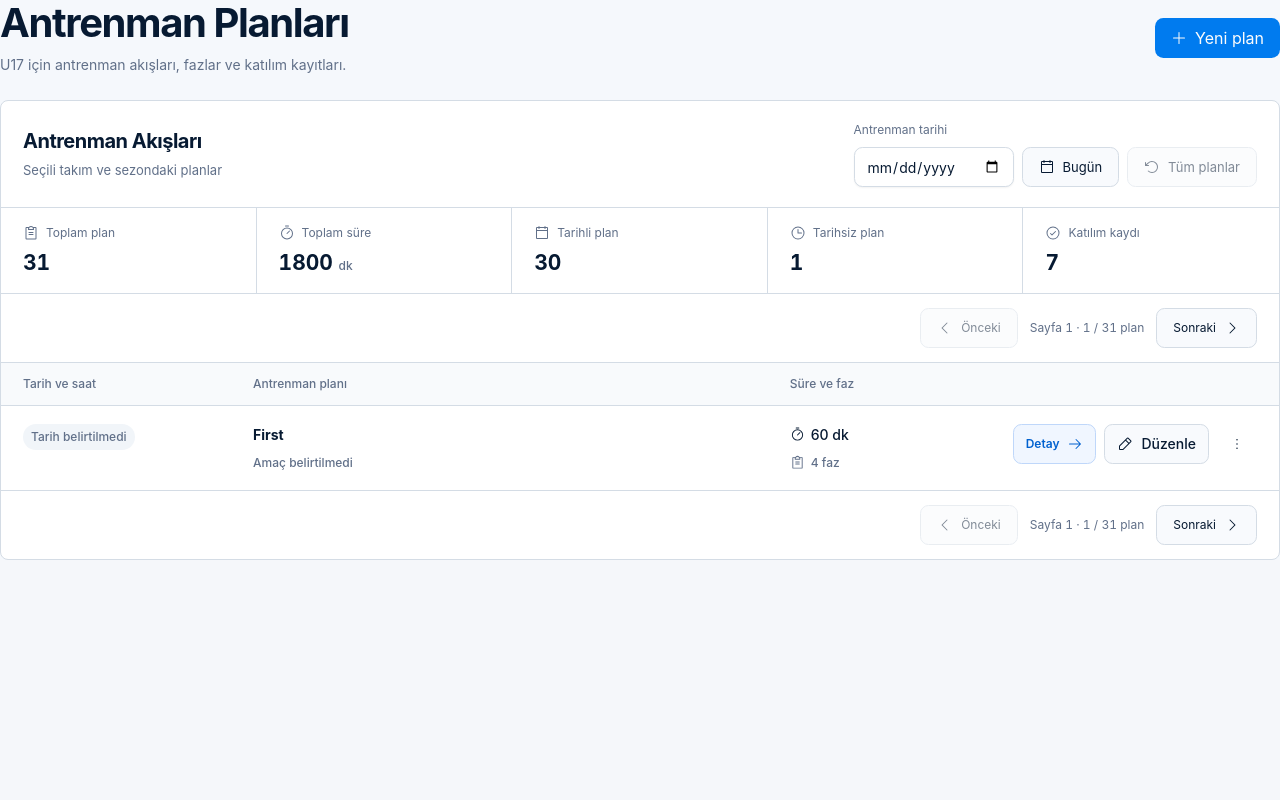
Test: independent training catalog › requires explicit delete confirmation and keeps the plan after a failed response
This screenshot has width=1280, height=800.
Expected: the text "First" is shown, [253,426,284,443]
Click the button named "First işlemleri": click(1237, 444) [1217,424,1257,464]
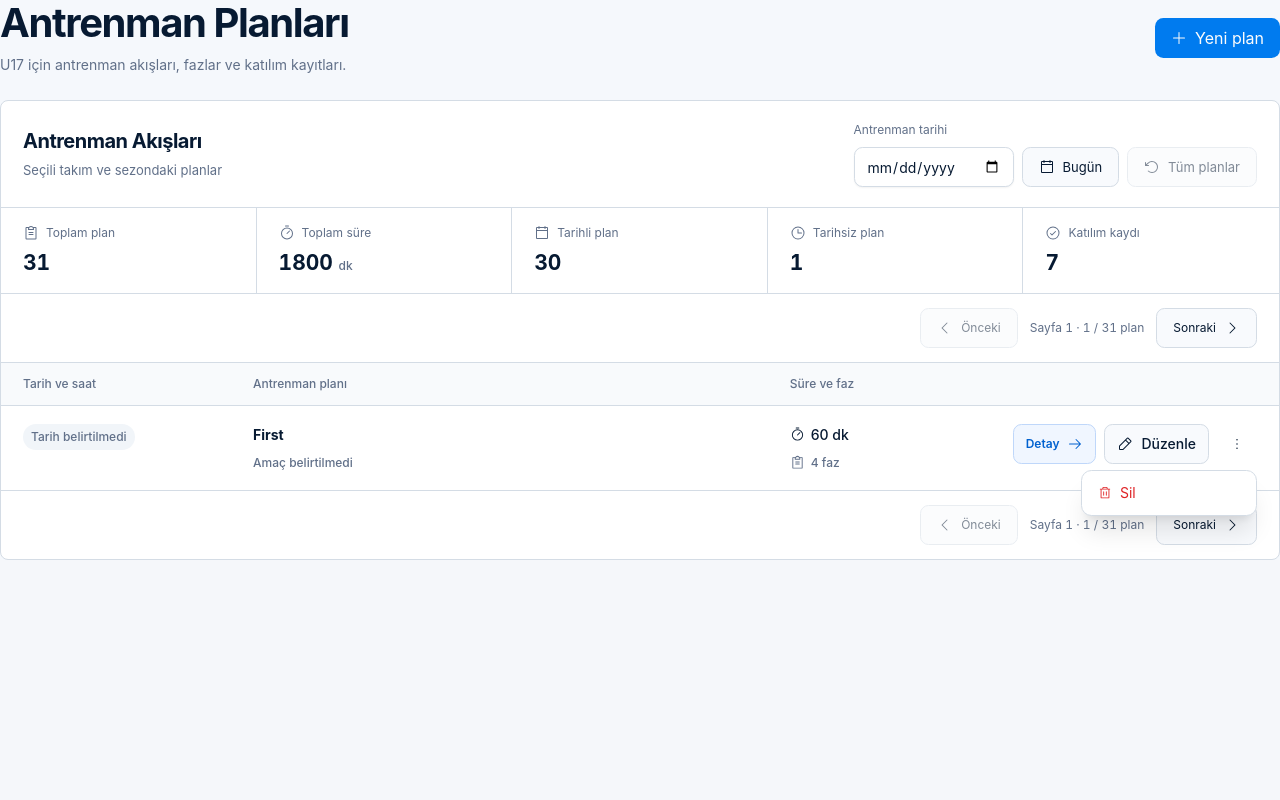
Click the menu item "Sil": click(1105, 493) [1098,484,1136,501]
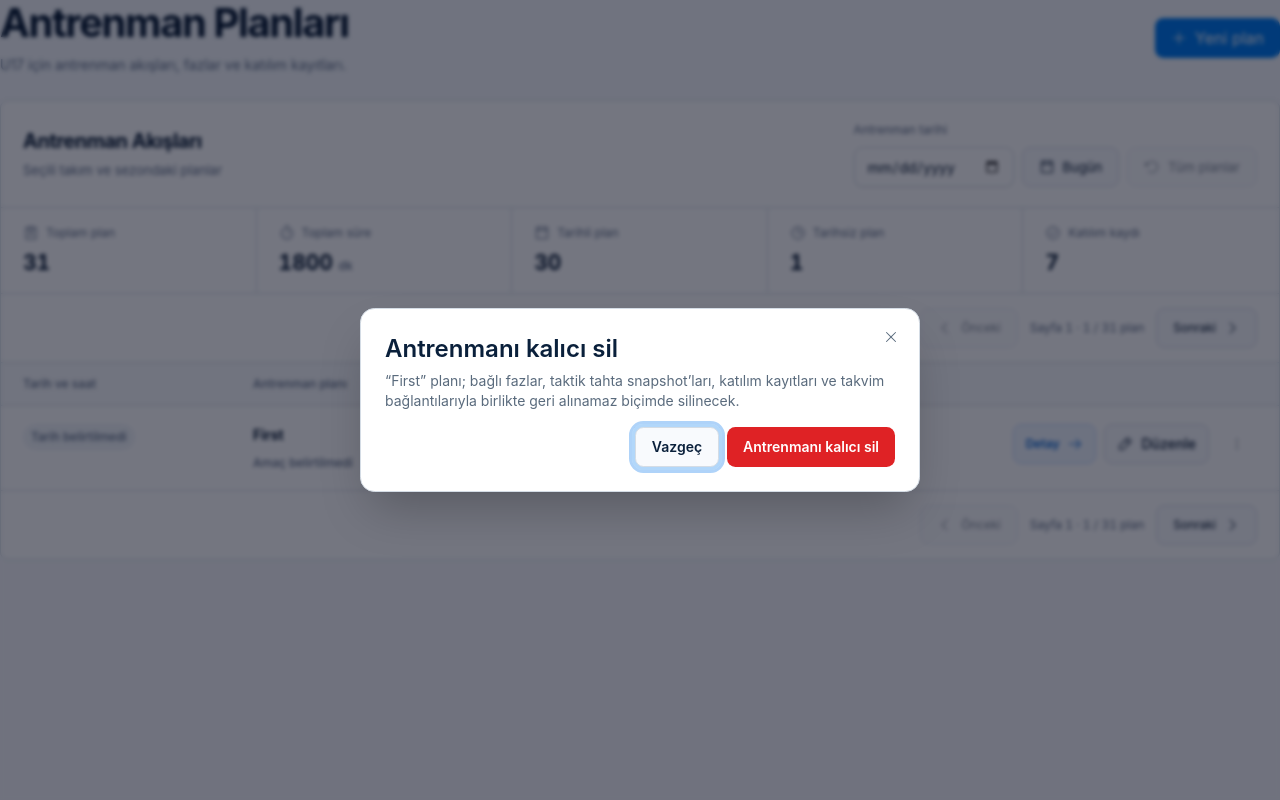
Click the button "Antrenmanı kalıcı sil": click(811, 447) [727,427,895,467]
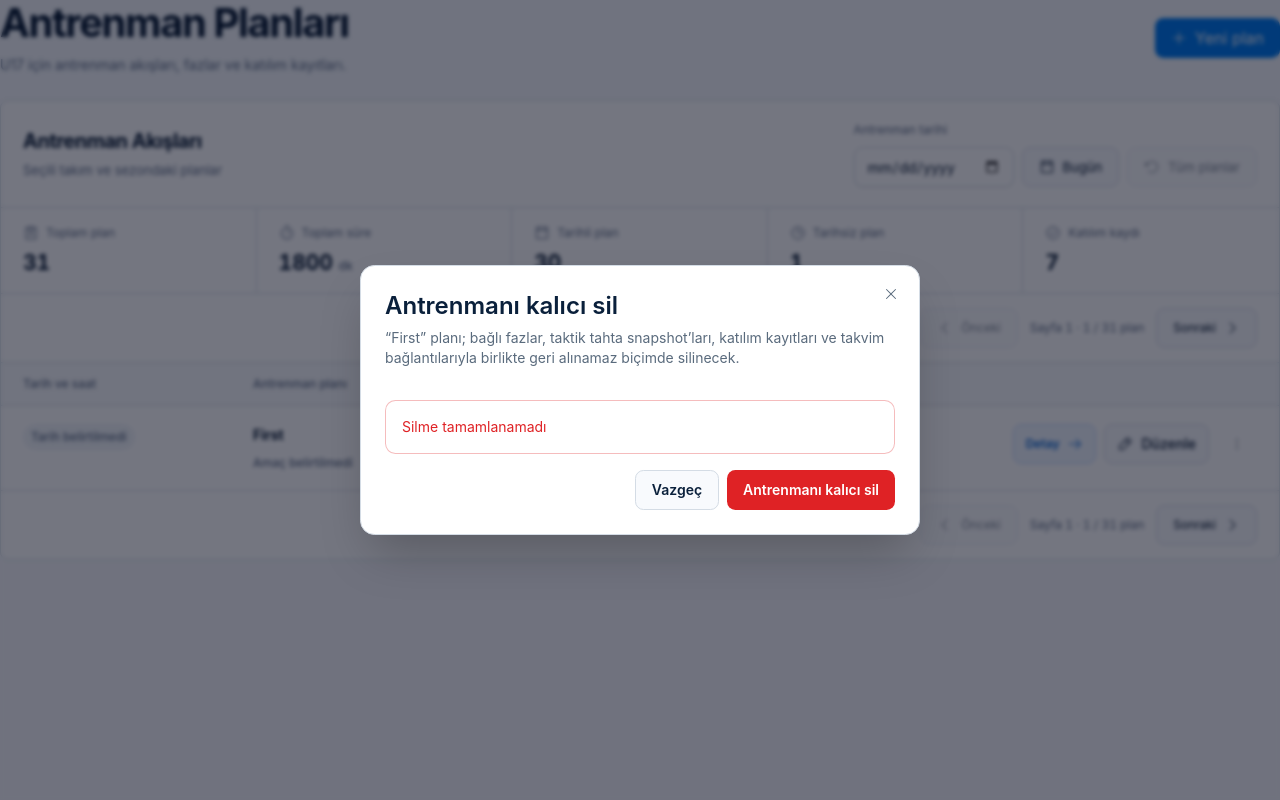
Expected: the text "First" is shown, [253,426,284,443]
Now the message reads "Silme tamamlanamadı", box [402,418,546,435]
Click the button "Antrenmanı kalıcı sil": click(811, 490) [727,470,895,510]
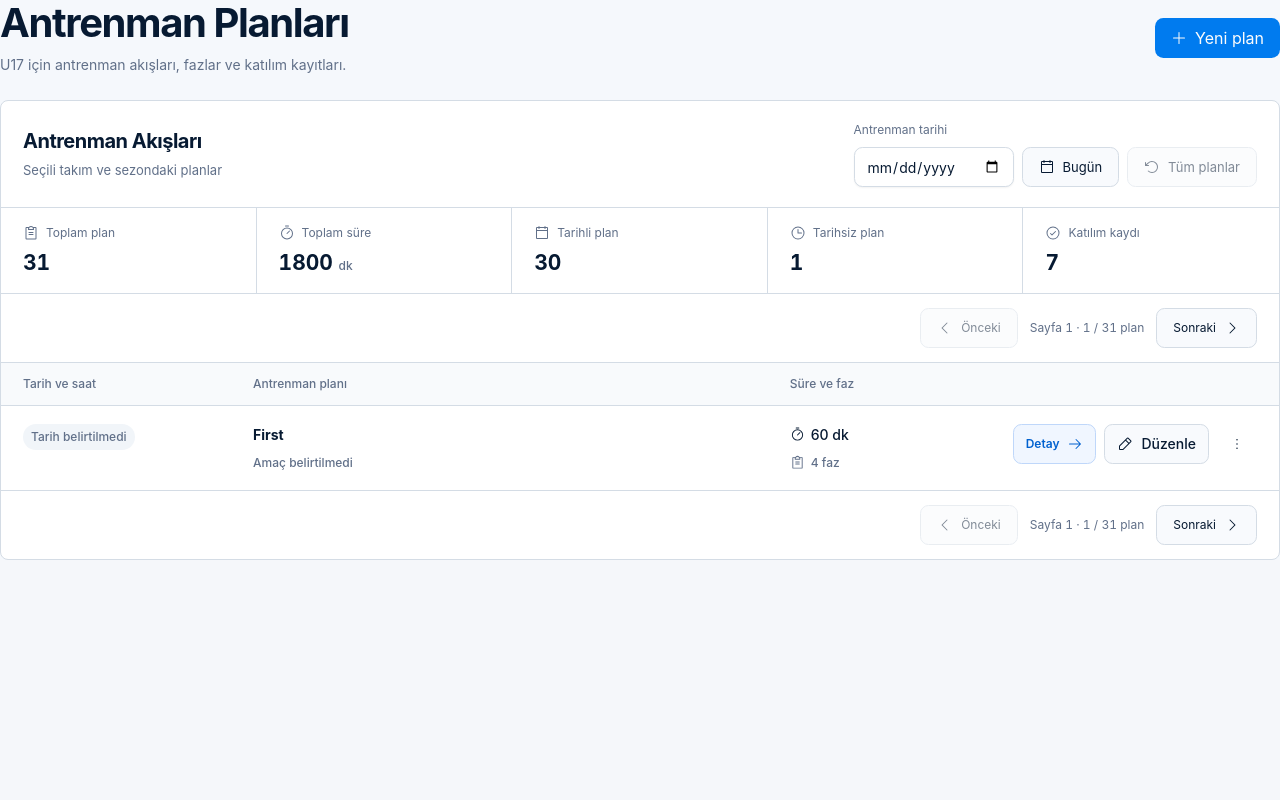
Now the dialog is gone
